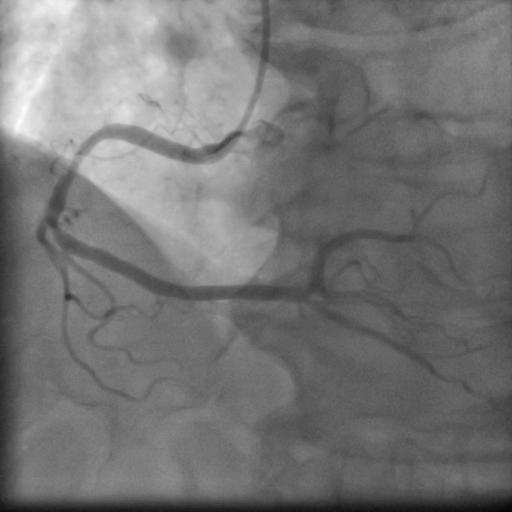Stenosis: (52, 134, 94, 227)
